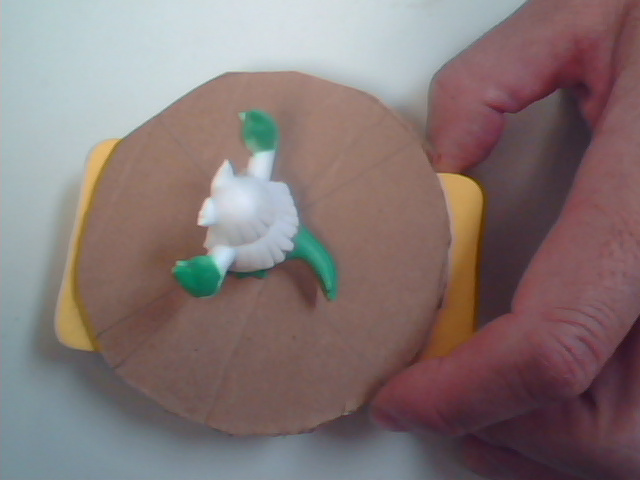abomasnow: (168, 104, 400, 330)
